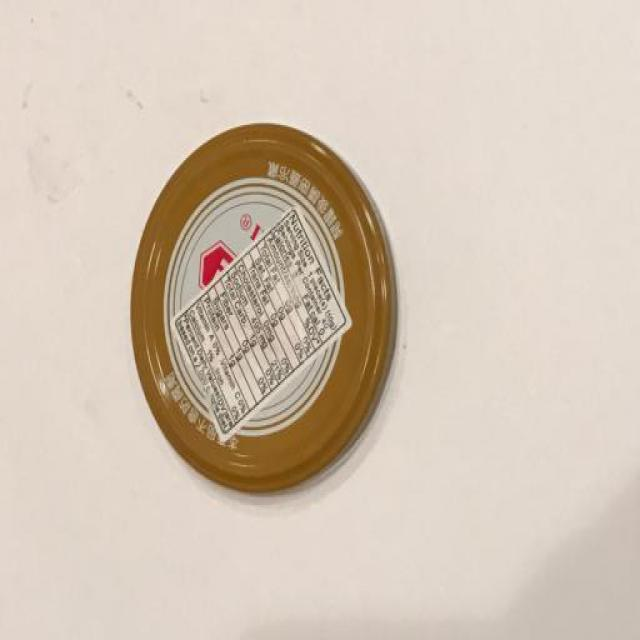metel: (77, 108, 410, 538)
